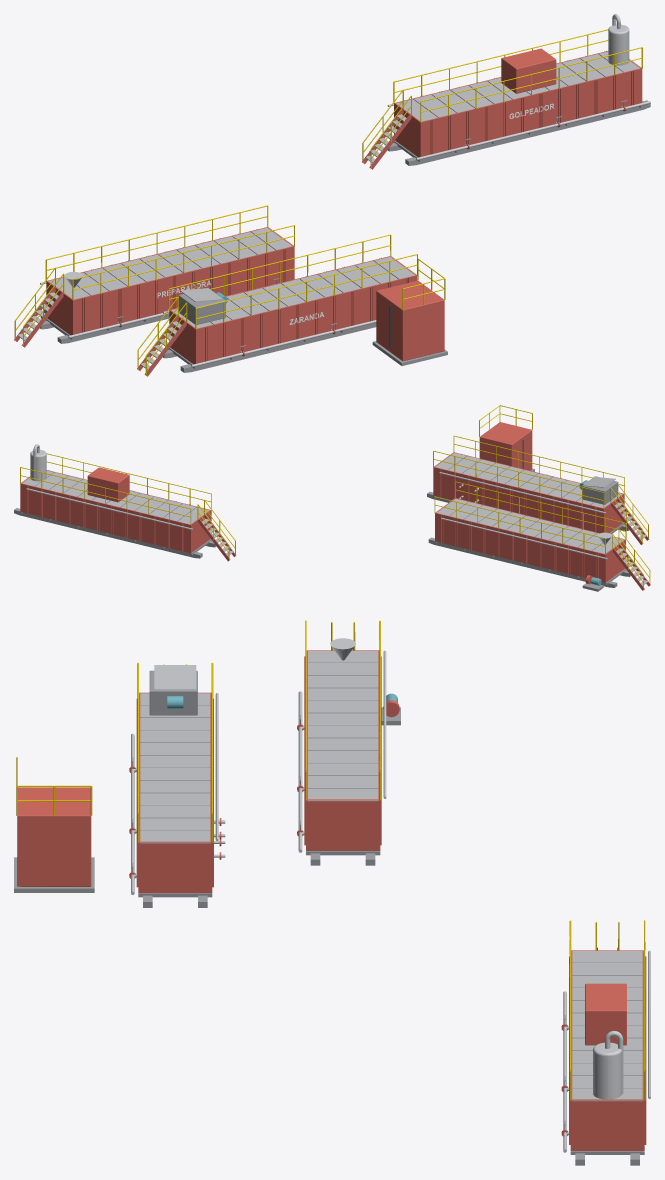
The model's file is sk575_piletas.glb.
3 renders of one model, top to bottom at view 1: azimuth 30°, elevation 25°; view 2: azimuth 150°, elevation 25°; view 3: azimuth 270°, elevation 25°, orthographic. The views are drawn at different scales.
Visible parts, largest first — view 1: sk575_piletas_rojo, sk575_piletas_grating, sk575_piletas_amarillo, sk575_piletas_acero_oscuro, sk575_piletas_acero, sk575_piletas_blanco; view 2: sk575_piletas_rojo, sk575_piletas_grating, sk575_piletas_amarillo, sk575_piletas_acero_oscuro, sk575_piletas_acero; view 3: sk575_piletas_grating, sk575_piletas_rojo, sk575_piletas_acero, sk575_piletas_acero_oscuro, sk575_piletas_amarillo.
Part boxes in pixels (x1,y1,x2,y2): sk575_piletas_rojo: (14, 48, 642, 376); sk575_piletas_grating: (17, 51, 641, 370); sk575_piletas_amarillo: (14, 29, 642, 375); sk575_piletas_acero_oscuro: (40, 100, 650, 372); sk575_piletas_acero: (40, 14, 650, 367); sk575_piletas_blanco: (157, 103, 554, 324); sk575_piletas_rojo: (20, 422, 650, 590); sk575_piletas_grating: (21, 453, 648, 585); sk575_piletas_amarillo: (20, 405, 650, 590); sk575_piletas_acero_oscuro: (14, 468, 630, 591); sk575_piletas_acero: (26, 444, 632, 566); sk575_piletas_grating: (140, 651, 642, 1101); sk575_piletas_rojo: (17, 648, 646, 1150); sk575_piletas_acero: (131, 638, 650, 1152); sk575_piletas_acero_oscuro: (14, 670, 644, 1165); sk575_piletas_amarillo: (16, 620, 645, 1100).
Size of the model in its own units: 35.56 by 4.25 by 19.74.
